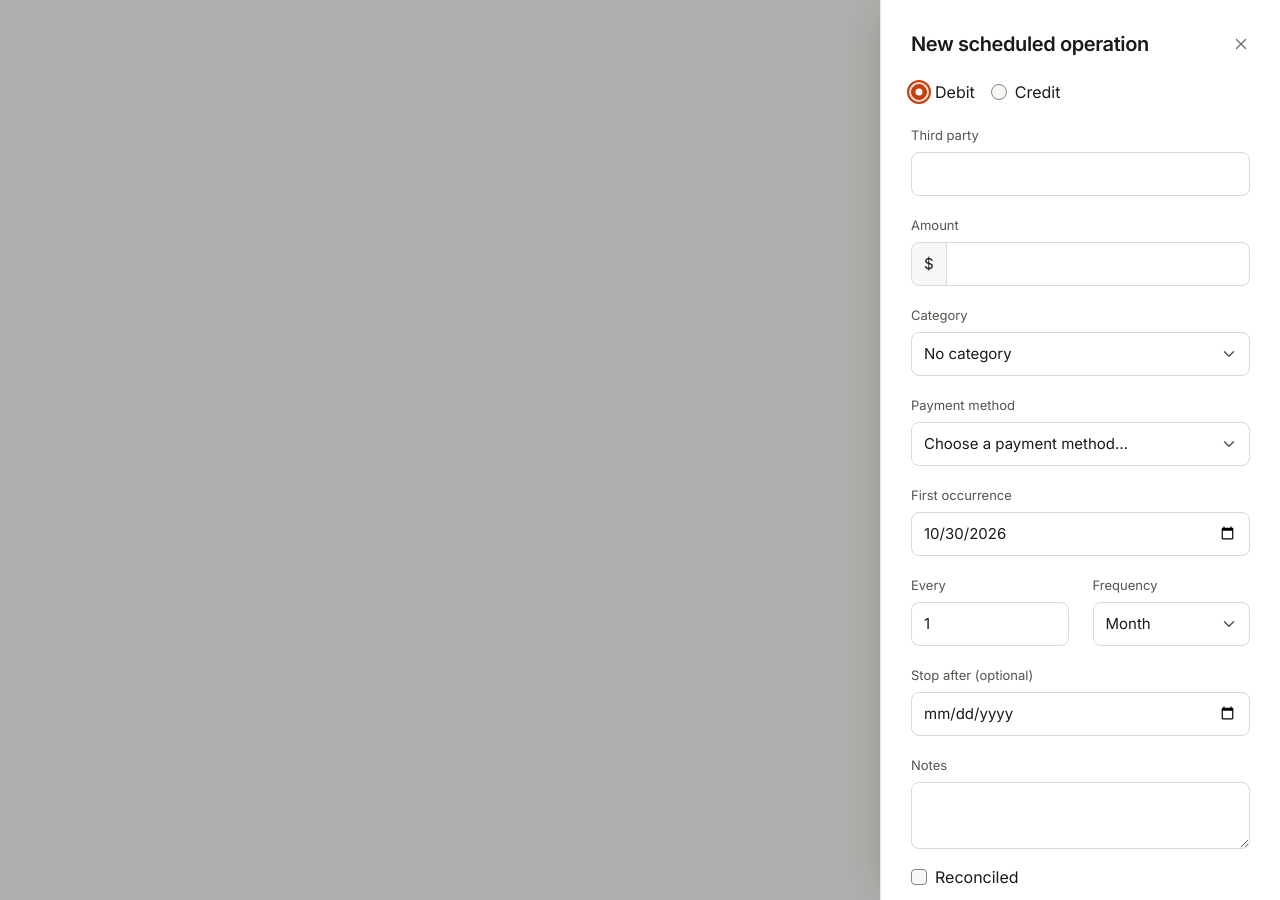
SchedulerForm › shows a past-occurrences hint when creating with a first occurrence in the past
The width and height of the screenshot is (1280, 900).
Expected: the text "Past occurrences will be added to the account when you save." is not shown
Type "2020-01-01" into the date field labelled "First occurrence" at [1080, 534], box [911,512,1250,556]
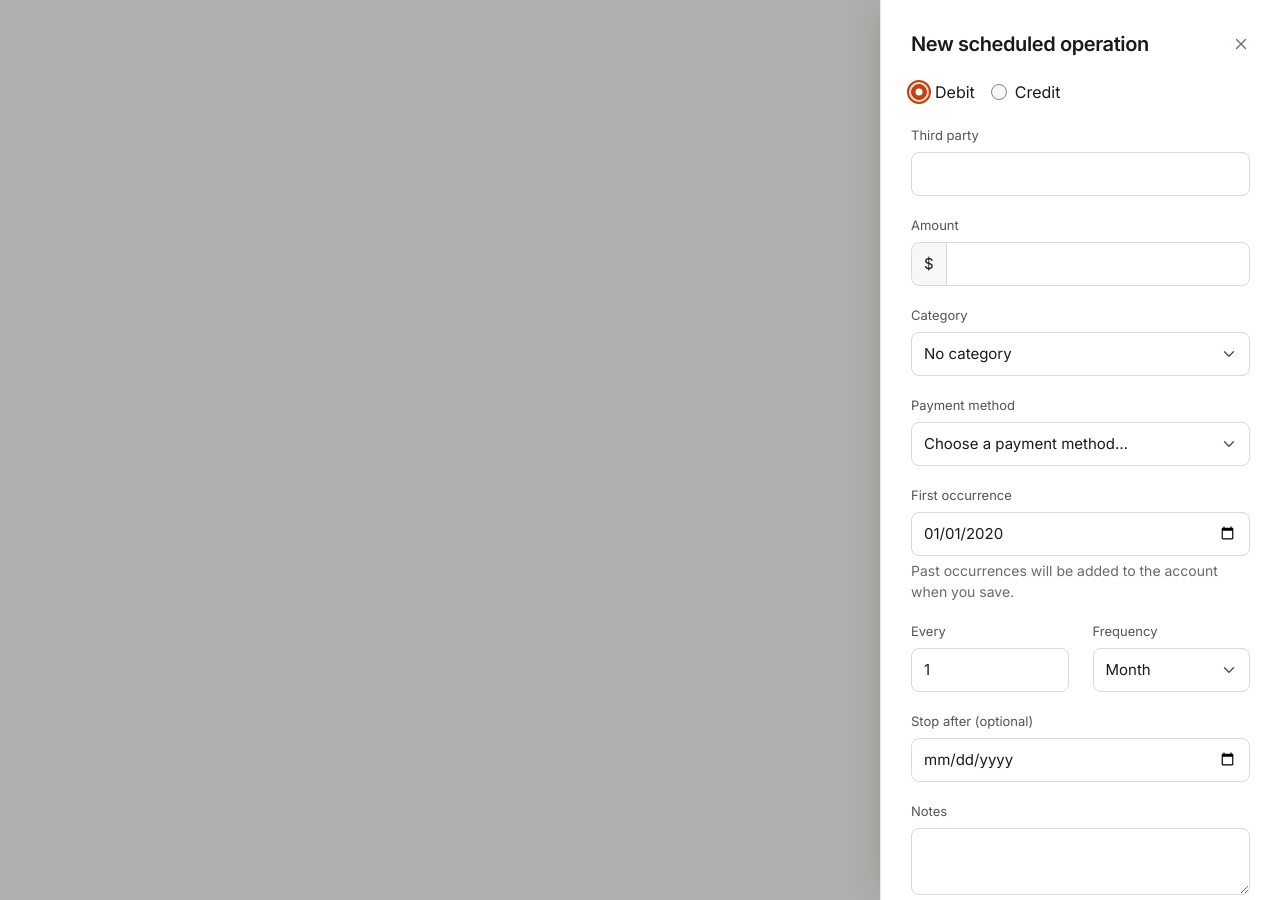
Expected: the text "Past occurrences will be added to the account when you save." is shown, [911,560,1250,602]
